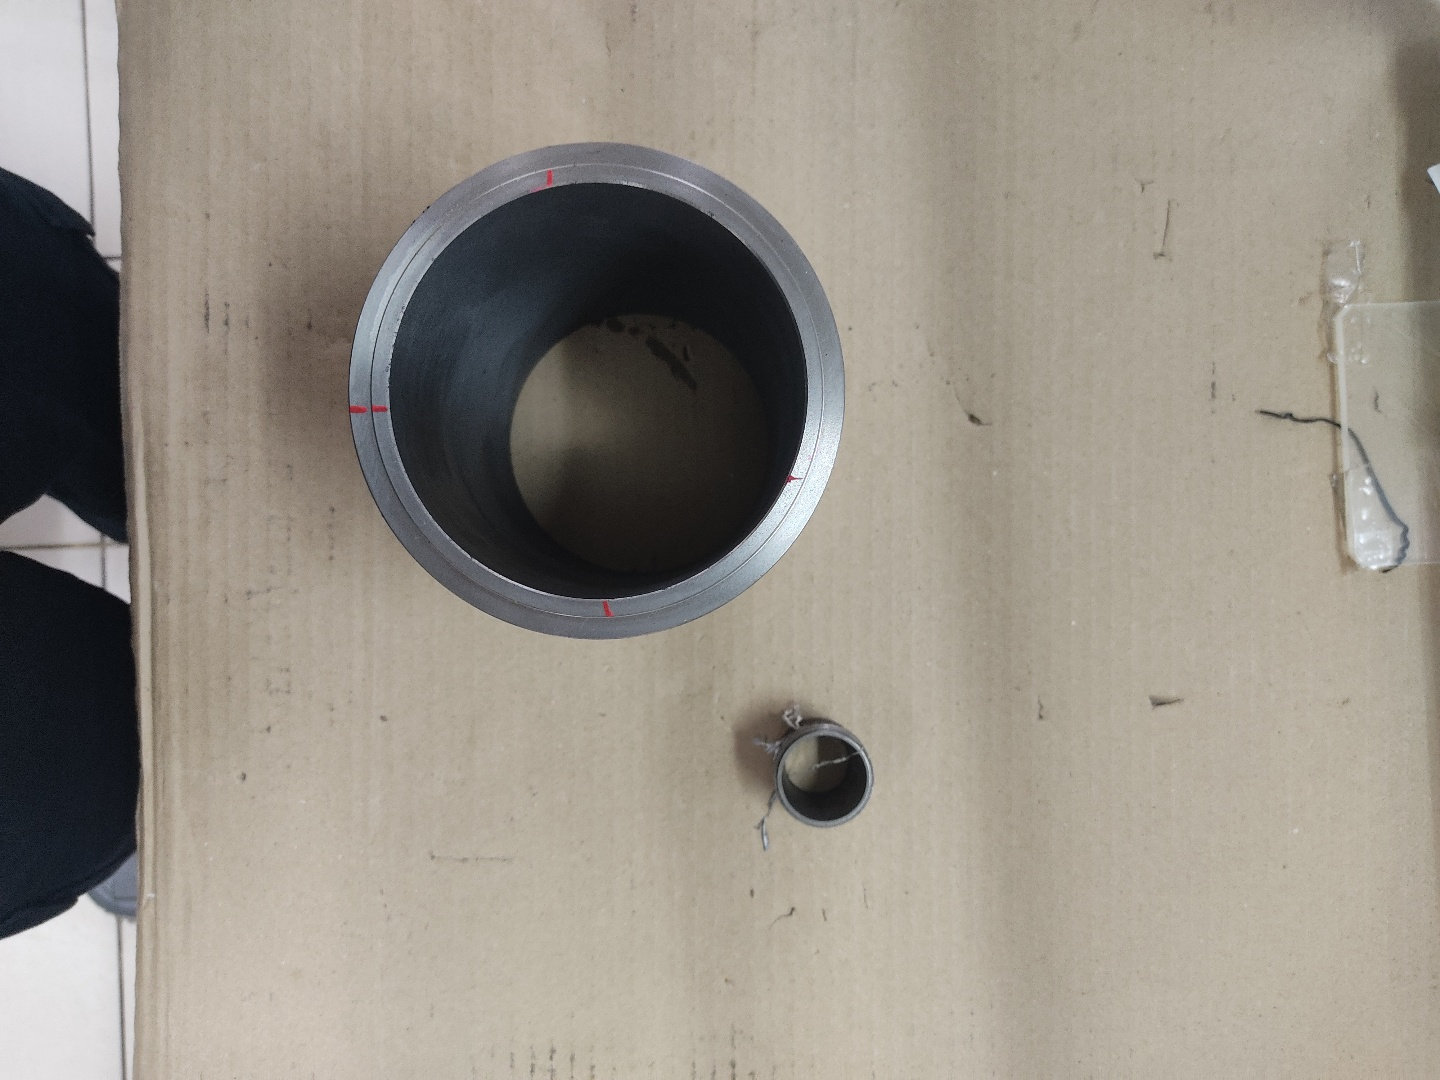cylinder: (344, 136, 850, 647)
